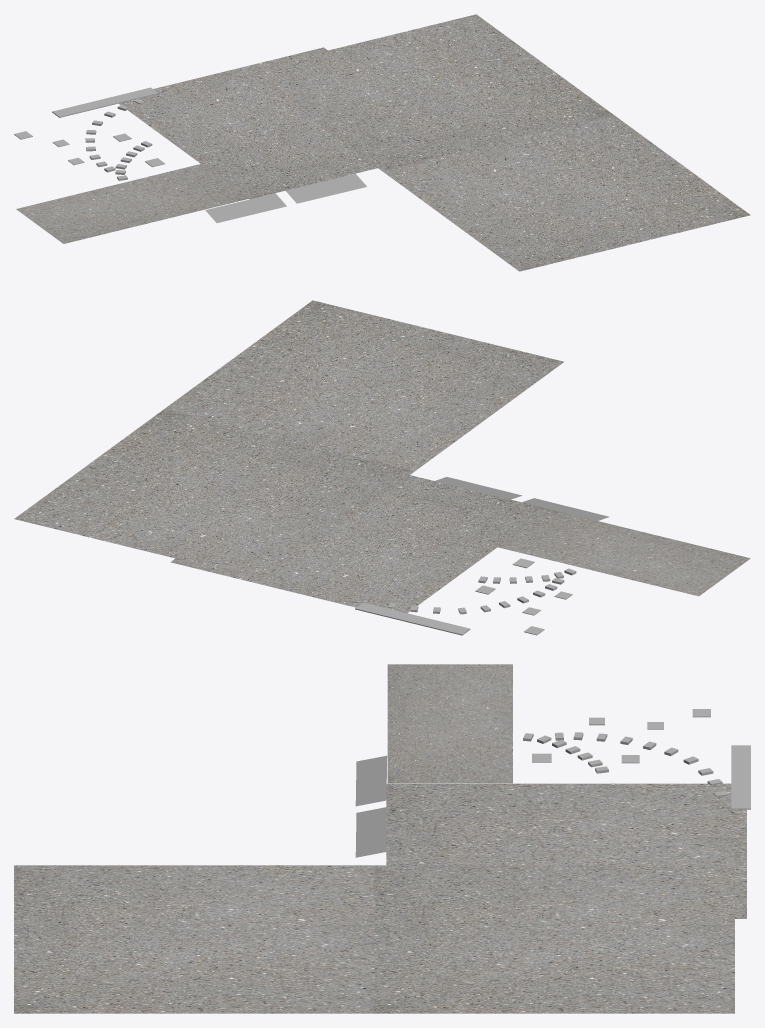
File: piedraPiso.fbx
The picture shows the model from 3 angles, top to bottom: view 1: azimuth 30°, elevation 25°; view 2: azimuth 150°, elevation 25°; view 3: azimuth 270°, elevation 25°; orthographic projection. The views are drawn at different scales.
Visible parts, largest first — view 1: Plane.021, Plane.022, Plane.023, Plane.024, Plane.020, Plane.019, Cube.071; view 2: Plane.022, Plane.021, Plane.023, Plane.024, Cube.071, Plane.020, Plane.019; view 3: Plane.021, Plane.022, Plane.023, Plane.024, Plane.020, Plane.019, Cube.071.
Boxes of the visible parts, box(x1,y1,x2,y2) form: Plane.021: box(382, 114, 750, 271); Plane.022: box(245, 14, 613, 170); Plane.023: box(118, 47, 377, 199); Plane.024: box(16, 164, 248, 243); Plane.020: box(205, 193, 286, 222); Plane.019: box(286, 173, 366, 203); Cube.071: box(52, 87, 158, 117); Plane.022: box(14, 409, 414, 580); Plane.021: box(164, 300, 564, 470); Plane.023: box(170, 475, 548, 613); Plane.024: box(497, 509, 750, 596); Cube.071: box(355, 602, 470, 635); Plane.020: box(522, 498, 609, 520); Plane.019: box(435, 477, 522, 499); Plane.021: box(14, 865, 374, 1013); Plane.022: box(374, 865, 734, 1013); Plane.023: box(386, 783, 746, 918); Plane.024: box(387, 664, 512, 783); Plane.020: box(355, 755, 387, 806); Plane.019: box(355, 807, 386, 857); Cube.071: box(731, 745, 750, 809).
Size of the model in its own units: 1606 by 20.18 by 1432.
Materials: 3 (1 with a texture image).
